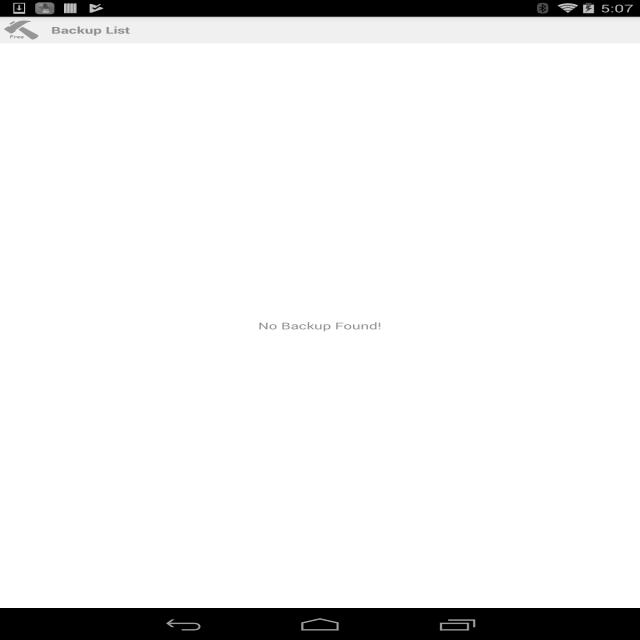ImageButton: (5, 18, 38, 44)
TextView: (253, 316, 384, 336), (50, 24, 132, 38)
